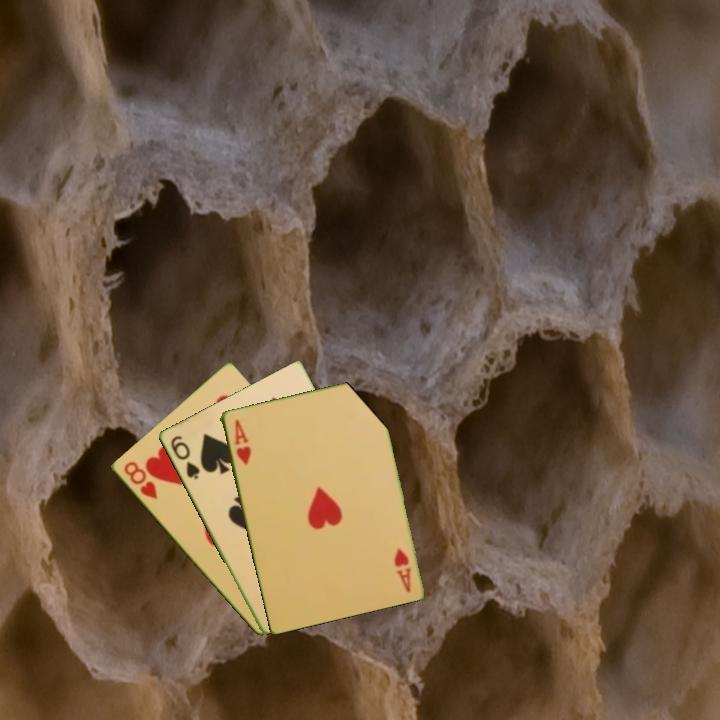6s: (167, 432, 202, 482)
8h: (120, 458, 160, 502)
Ah: (230, 416, 254, 467), (391, 544, 413, 595)
